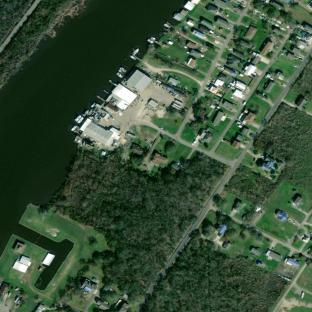Floresta: (51, 151, 225, 300), (141, 233, 287, 312), (225, 104, 312, 206), (0, 0, 85, 89), (0, 0, 31, 42), (292, 57, 312, 99)
